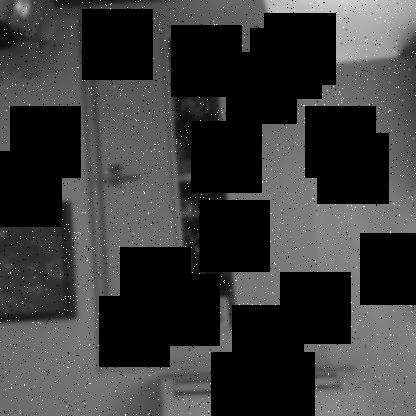Porte: (81, 1, 332, 375)
